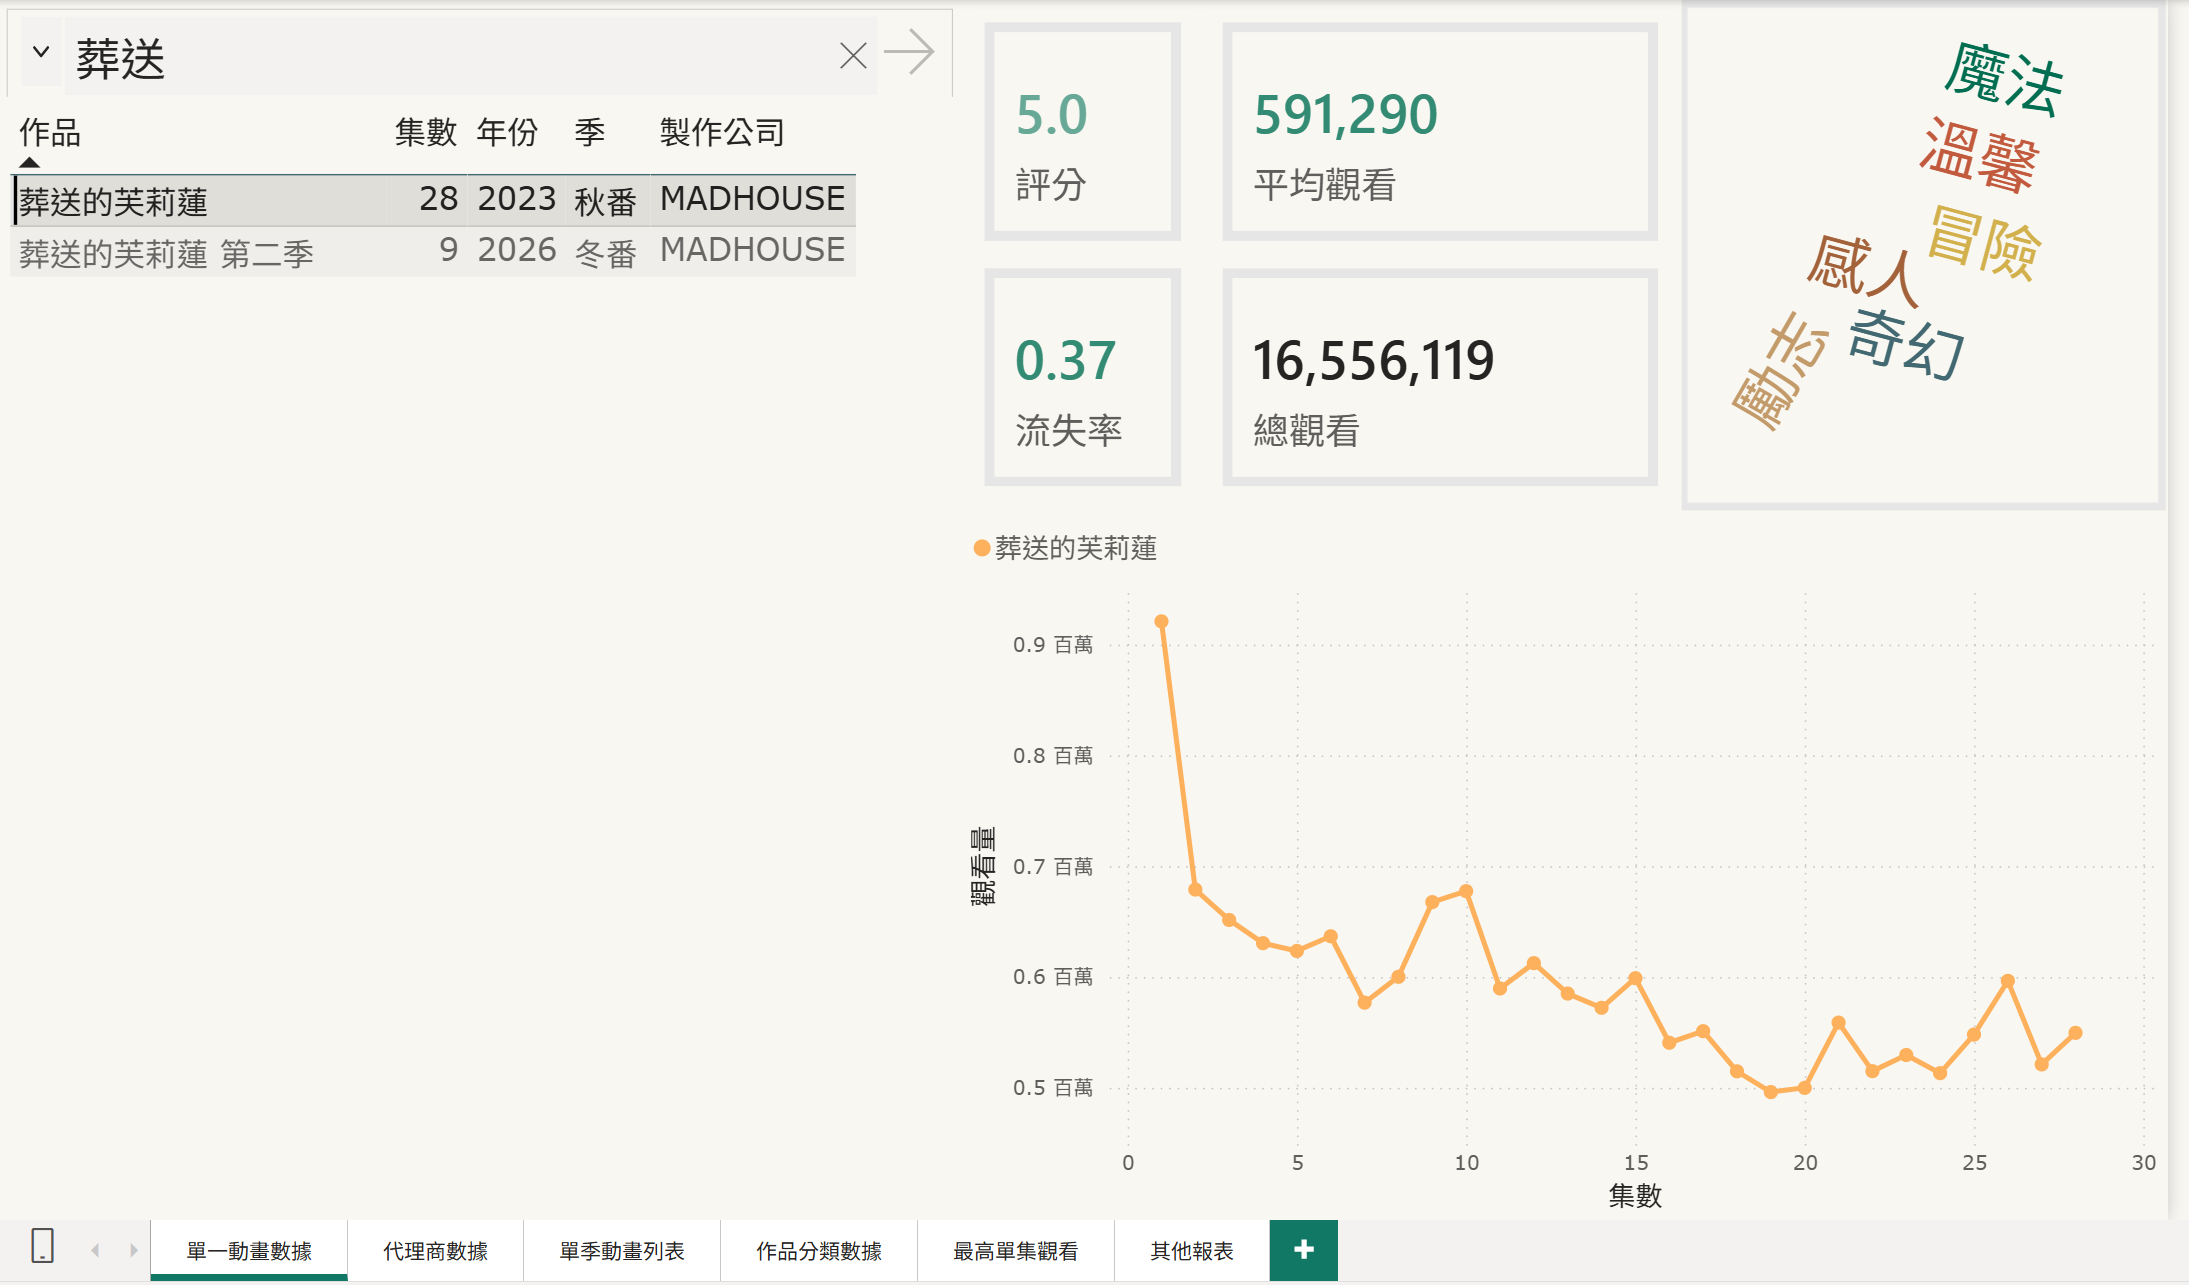

This screenshot's page, from the dashboard's own definition file:
{"tool":"powerbi","page":{"name":"單一動畫數據","canvas":[1280,720],"ordinal":0},"visuals":[{"type":"WordCloud1447959067750","fields":{"Category":["public anime_metadata.tags"],"Values":["Count(public v_clean_tv_animelist.title)"]},"box":[992.3,0,287,301.2],"z":0},{"type":"lineChart","fields":{"Category":["public v_clean_tv_episodes.episode"],"Y":["Sum(public v_clean_tv_episodes.view_count)"],"Series":["public v_clean_tv_episodes.title"]},"box":[568.9,301.2,711.7,418.3],"z":1000},{"type":"tableEx","fields":{"Values":["public v_clean_tv_animelist.title","Sum(public v_clean_tv_animelist.episodes)","Sum(public v_clean_tv_animelist.year)","public v_clean_tv_animelist.season","public anime_metadata.studio"]},"box":[1.3,56.6,568.9,662.8],"z":2000},{"type":"textSlicer","fields":{"Values":["public v_clean_tv_animelist.title"]},"box":[0,0,568.4,57.2],"z":3000},{"type":"cardVisual","fields":{"Data":["Median(public v_clean_tv_animelist.rating)","Median(public v_clean_tv_animelist.churn_rate)"]},"box":[568.9,0,142.9,301.2],"z":6000},{"type":"cardVisual","fields":{"Data":["Avg(public v_clean_tv_animelist.mean_view_count)","Sum(public v_clean_tv_animelist.sum_view_count)"]},"box":[709,0,283.9,301.7],"z":7000}]}

Visuals, with their boxes on the page's 1280x720 design canvas (x1, y1, x2, y2). These are canvas units, not pixel positions in the 2189x1285 screenshot, which may show the page scaled, cropped or inside an application window:
WordCloud1447959067750 - public anime_metadata.tags x Count(public v_clean_tv_animelist.title): {"x1": 992, "y1": 0, "x2": 1279, "y2": 301}
lineChart - public v_clean_tv_episodes.episode x Sum(public v_clean_tv_episodes.view_count): {"x1": 569, "y1": 301, "x2": 1281, "y2": 720}
tableEx - public v_clean_tv_animelist.title x Sum(public v_clean_tv_animelist.episodes): {"x1": 1, "y1": 57, "x2": 570, "y2": 719}
textSlicer - public v_clean_tv_animelist.title: {"x1": 0, "y1": 0, "x2": 568, "y2": 57}
cardVisual - Median(public v_clean_tv_animelist.rating) x Median(public v_clean_tv_animelist.churn_rate): {"x1": 569, "y1": 0, "x2": 712, "y2": 301}
cardVisual - Avg(public v_clean_tv_animelist.mean_view_count) x Sum(public v_clean_tv_animelist.sum_view_count): {"x1": 709, "y1": 0, "x2": 993, "y2": 302}
